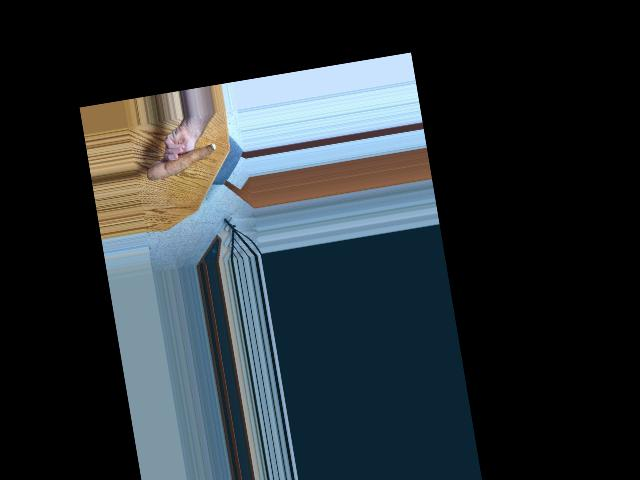sweet_potato: (145, 139, 221, 183)
